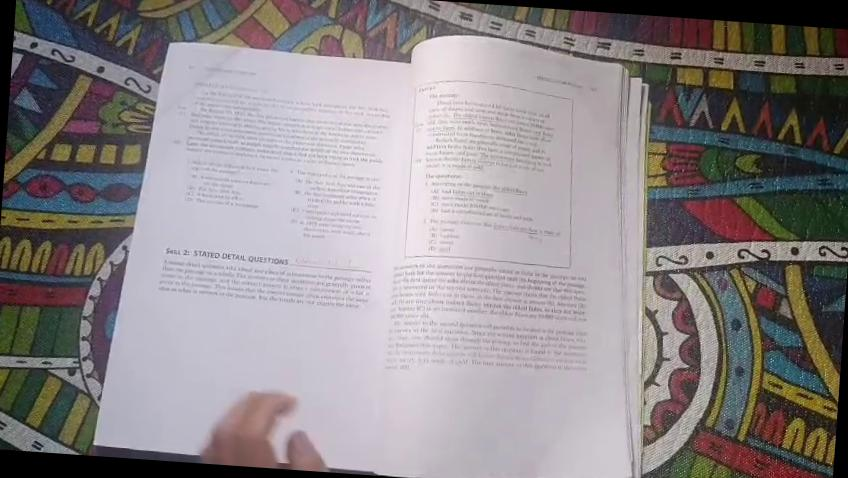Kertas: (100, 36, 422, 467), (382, 31, 662, 478)
